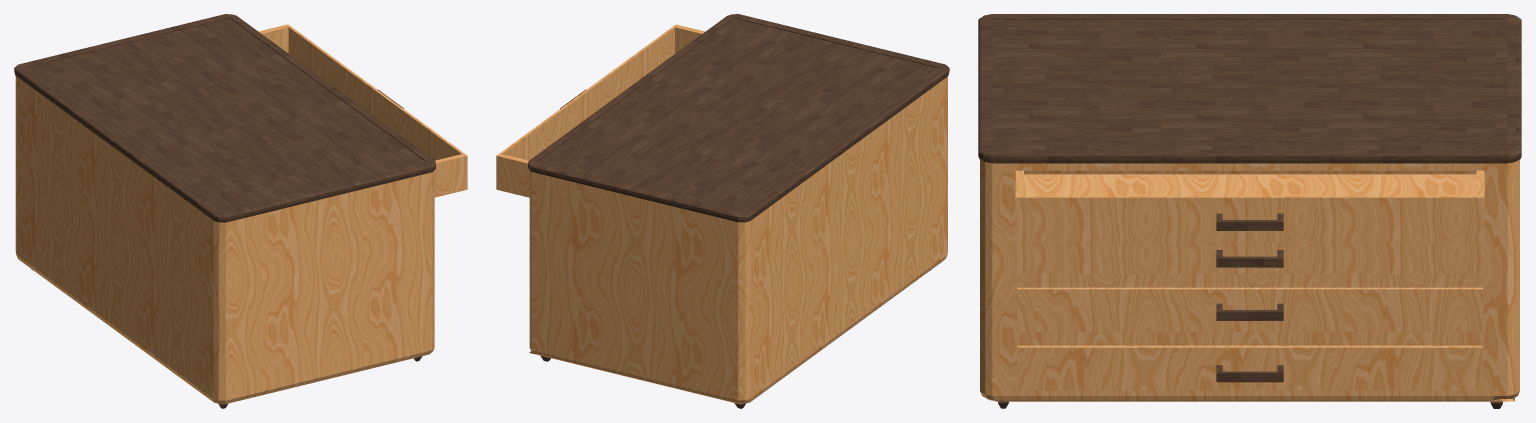
The model's file is vestidor2.fbx.
3 renders of one model, left to right at view 1: azimuth 30°, elevation 25°; view 2: azimuth 150°, elevation 25°; view 3: azimuth 270°, elevation 25°, orthographic. The views are drawn at different scales.
Visible parts, largest first — view 1: dresser2:Mesh; view 2: dresser2:Mesh; view 3: dresser2:Mesh.
Part boxes in pixels (left/top/right/bottom): dresser2:Mesh: left=14, top=14, right=467, bottom=408; dresser2:Mesh: left=496, top=14, right=949, bottom=408; dresser2:Mesh: left=978, top=14, right=1521, bottom=408.
Bounding box in the file's own units: 6.95 × 4.8 × 9.04.
Materials: 2 (2 with a texture image).
